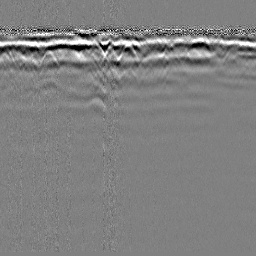cavity: (116, 40, 139, 60)
